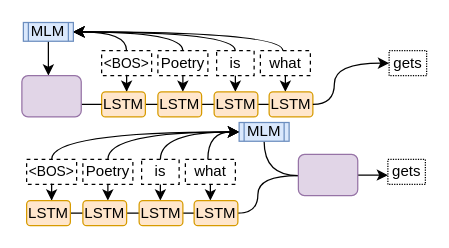
This 449x248 diagram has some shape labels left out. Each missing label, with the box of its shape:
Fusion (early): (21, 74, 81, 117)
Fusion (late): (297, 153, 358, 196)
